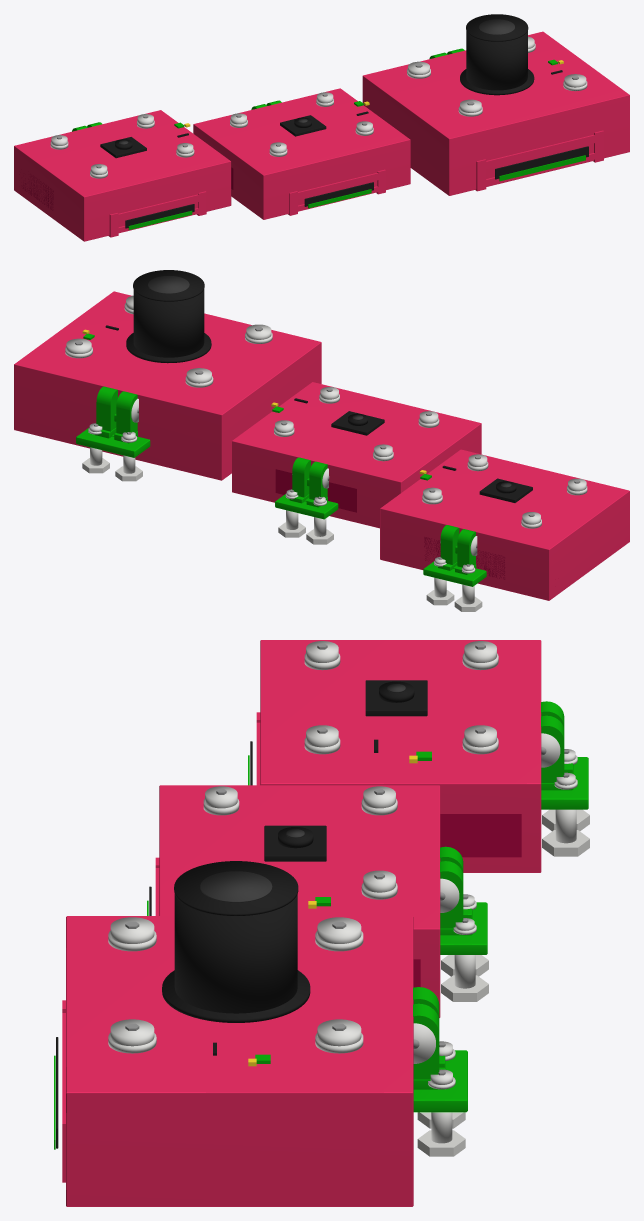
Rendered from openscad_camera-housing.glb.
The picture shows the model from 3 angles, top to bottom: view 1: azimuth 30°, elevation 25°; view 2: azimuth 150°, elevation 25°; view 3: azimuth 270°, elevation 25°; orthographic projection. The views are drawn at different scales.
Visible parts, largest first — view 1: object; view 2: object; view 3: object.
Boxes of the visible parts, bbox=[...] form: object: bbox=[14, 14, 629, 241]; object: bbox=[14, 270, 629, 611]; object: bbox=[54, 640, 589, 1206].
Size of the model in its own units: 16.27 by 4.25 by 7.59.
